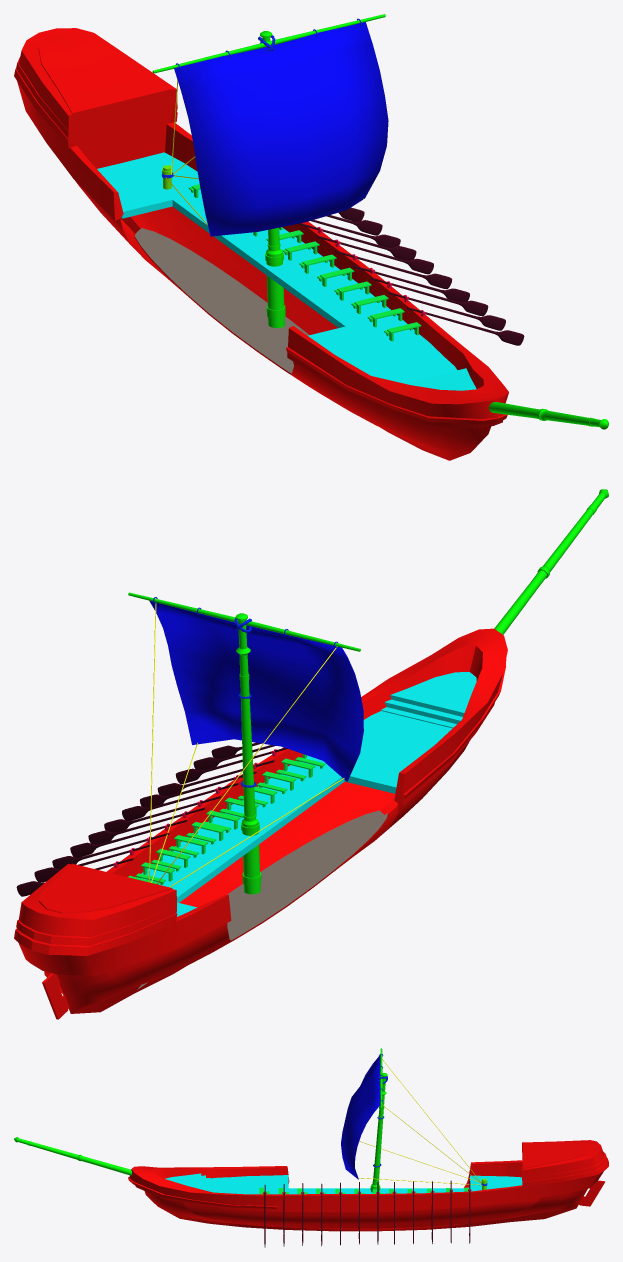
Rendered from HalbesSchiff1.fbx.
The picture shows the model from 3 angles, top to bottom: view 1: azimuth 30°, elevation 25°; view 2: azimuth 150°, elevation 25°; view 3: azimuth 270°, elevation 25°; orthographic projection. The views are drawn at different scales.
Visible parts, largest first — view 1: Cube.002, bodenHalb; view 2: Cube.002, bodenHalb; view 3: Cube.002.
Boxes of the visible parts, <box> form: Cube.002: <box>14,14,608,460</box>; bodenHalb: <box>135,228,309,373</box>; Cube.002: <box>14,489,608,1019</box>; bodenHalb: <box>137,810,387,989</box>; Cube.002: <box>14,1048,608,1247</box>.
Bounding box in the file's own units: 1588 × 1790 × 6008.
